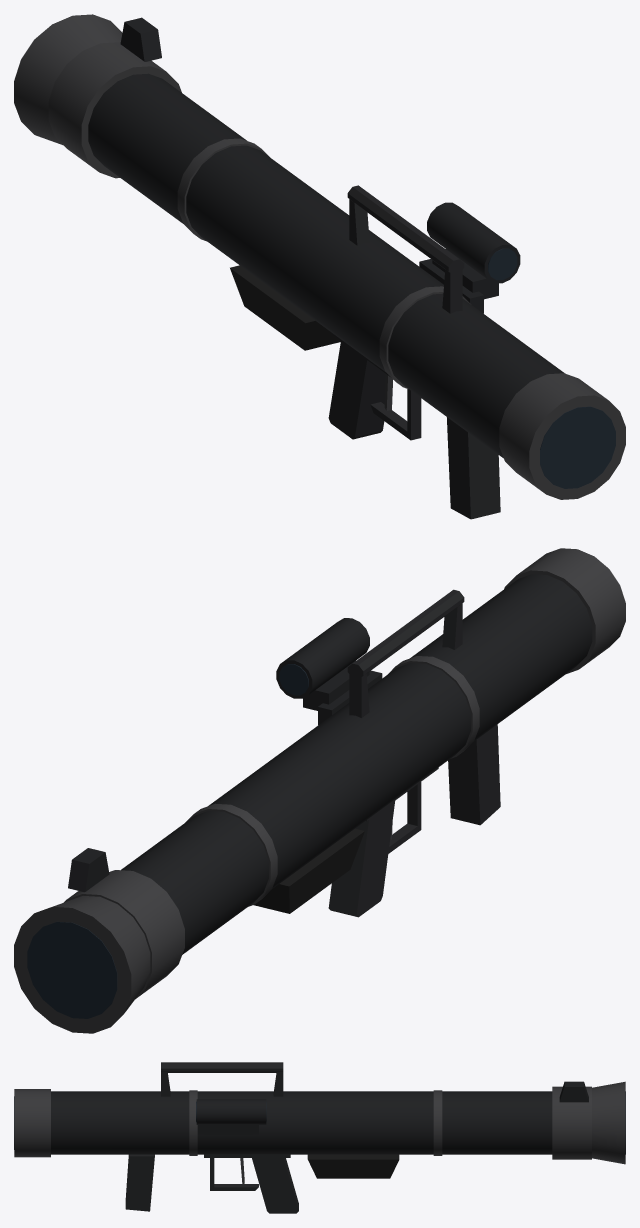
Rendered from rpg.glb.
The picture shows the model from 3 angles, top to bottom: view 1: azimuth 30°, elevation 25°; view 2: azimuth 150°, elevation 25°; view 3: azimuth 270°, elevation 25°; orthographic projection. The views are drawn at different scales.
Visible parts, largest first — view 1: rpg; view 2: rpg; view 3: rpg.
Boxes of the visible parts, x1=… form: rpg: x1=14, y1=14, x2=625, y2=519; rpg: x1=14, y1=548, x2=625, y2=1033; rpg: x1=14, y1=1062, x2=625, y2=1213.
Size of the model in its own units: 0.1734 by 0.264 by 1.
1 material, 1 textured.
